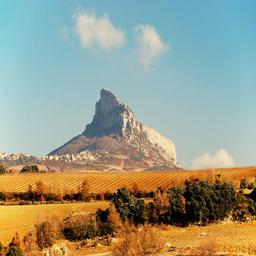Crow: (116, 188, 138, 216)
